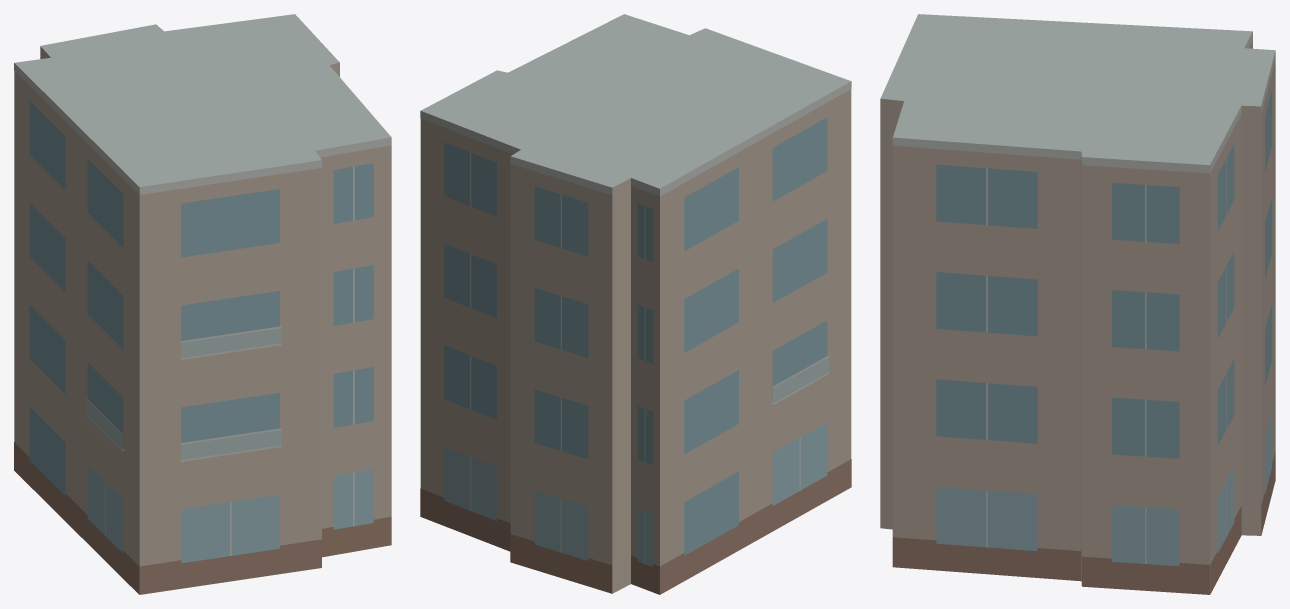
The model's file is survey-upis-32666735.glb.
The picture shows the model from 3 angles, left to right: view 1: azimuth 30°, elevation 25°; view 2: azimuth 150°, elevation 25°; view 3: azimuth 270°, elevation 25°; orthographic projection. The views are drawn at different scales.
Visible parts, largest first — view 1: survey-upis-32666735.tmp; view 2: survey-upis-32666735.tmp; view 3: survey-upis-32666735.tmp.
Boxes of the visible parts, box(x1,y1,x2,y2) form: survey-upis-32666735.tmp: box(14, 14, 391, 594); survey-upis-32666735.tmp: box(420, 14, 851, 594); survey-upis-32666735.tmp: box(880, 14, 1275, 594).
Bounding box in the file's own units: 9.67 × 12.8 × 10.68.
